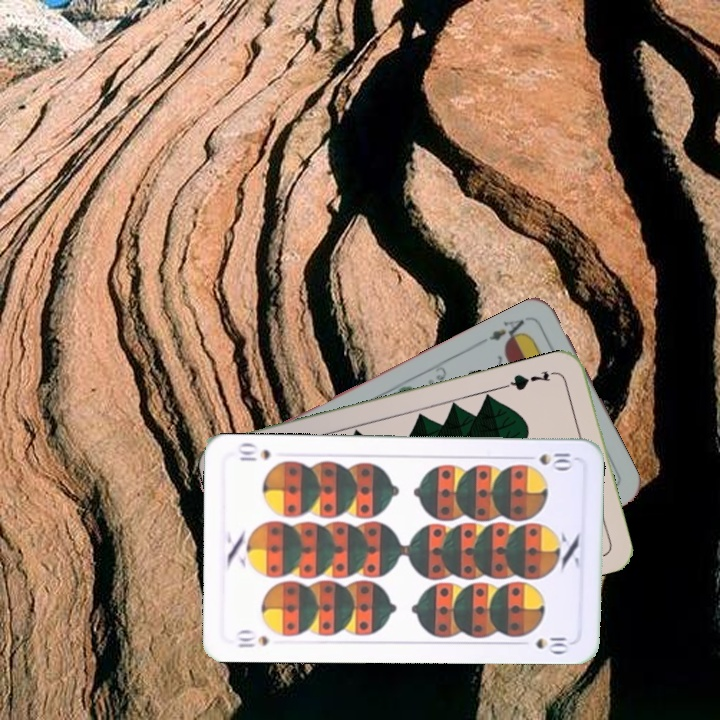EA: (485, 315, 530, 349)
G7: (502, 367, 561, 393)
S10: (519, 449, 578, 470), (232, 627, 271, 651)
